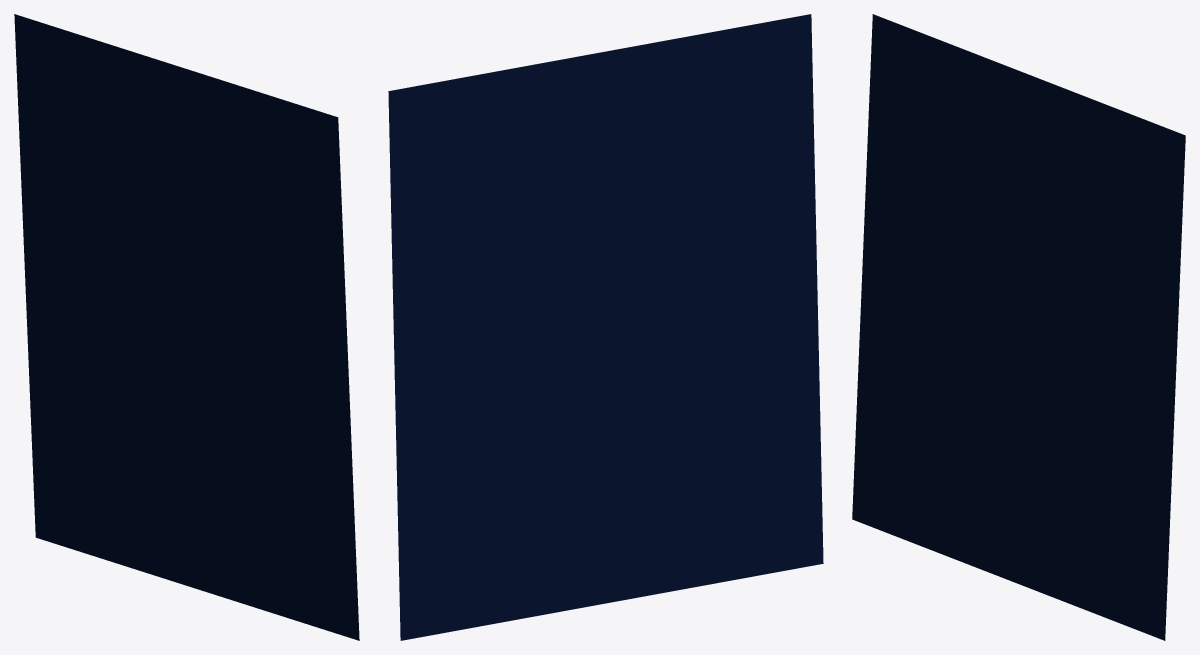
3 renders of one model, left to right at view 1: azimuth 90°, elevation 25°; view 2: azimuth 150°, elevation 25°; view 3: azimuth 270°, elevation 25°, orthographic. The views are drawn at different scales.
Visible parts, largest first — view 1: Cube.2079; view 2: Cube.2079; view 3: Cube.2079.
Boxes of the visible parts, left/top/right/bottom form: Cube.2079: left=14, top=14, right=359, bottom=640; Cube.2079: left=388, top=14, right=823, bottom=640; Cube.2079: left=852, top=14, right=1185, bottom=640.
Bounding box in the file's own units: 92.74 × 201 × 118.
